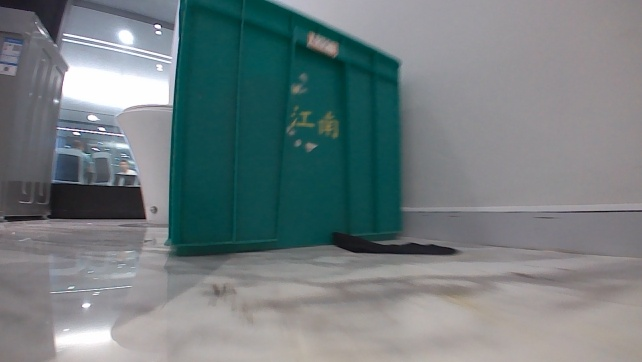socks: (326, 227, 459, 259)
toilet: (114, 100, 171, 226)
washing_machine1: (0, 6, 70, 225)
